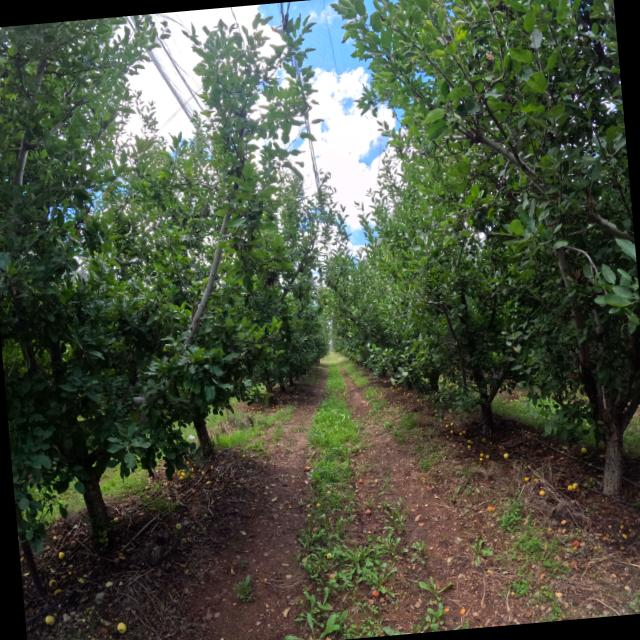-FireBlight-: (579, 187, 601, 223)
